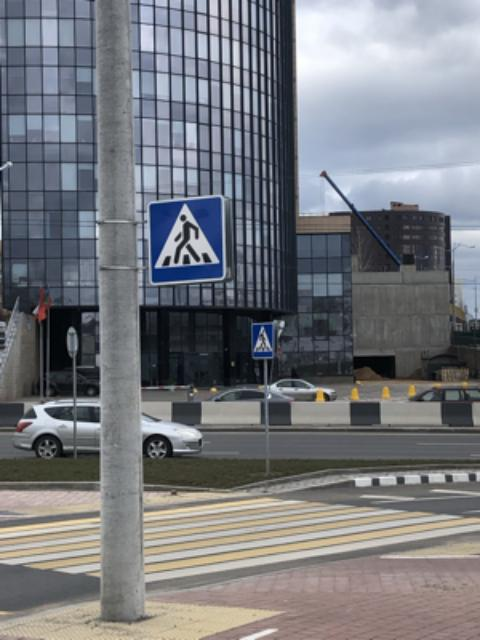crosswalk-sign: (145, 193, 231, 287), (250, 325, 279, 362)
